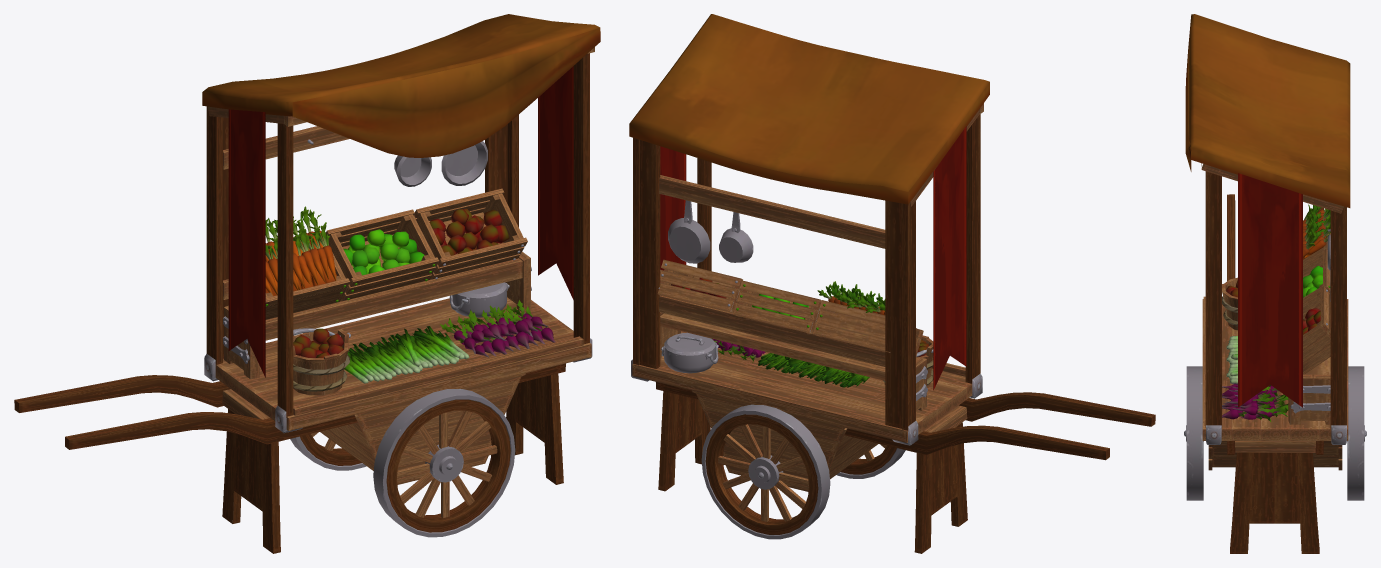
Rendered from Stall_Vegetables_Full.gltf.
3 renders of one model, left to right at view 1: azimuth 30°, elevation 25°; view 2: azimuth 150°, elevation 25°; view 3: azimuth 270°, elevation 25°, orthographic. The views are drawn at different scales.
Visible parts, largest first — view 1: Stall_Vegetables_Full; view 2: Stall_Vegetables_Full; view 3: Stall_Vegetables_Full.
Part boxes in pixels (left/top/right/bottom): Stall_Vegetables_Full: left=14, top=14, right=600, bottom=553; Stall_Vegetables_Full: left=629, top=14, right=1155, bottom=553; Stall_Vegetables_Full: left=1184, top=14, right=1366, bottom=553.
Bounding box in the file's own units: 3.02 × 2.66 × 1.06.
4 materials, 4 textured.
